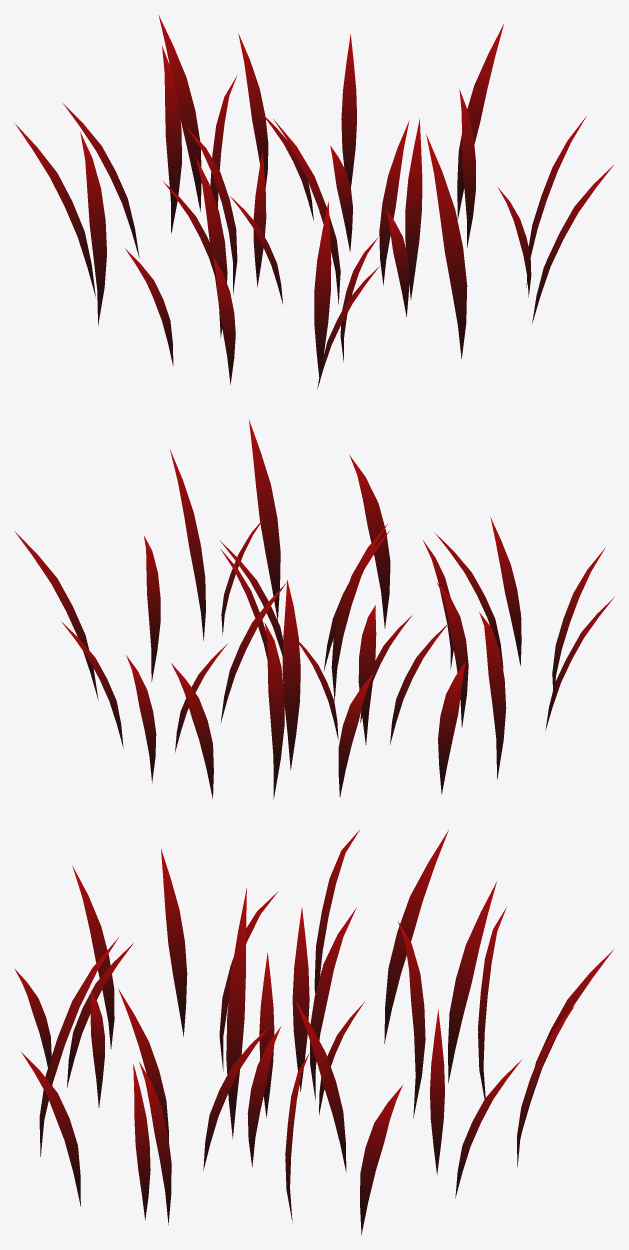
The model's file is Grass_Mesh.fbx.
3 renders of one model, top to bottom at view 1: azimuth 30°, elevation 25°; view 2: azimuth 150°, elevation 25°; view 3: azimuth 270°, elevation 25°, orthographic. The views are drawn at different scales.
Visible parts, largest first — view 1: Grass; view 2: Grass; view 3: Grass.
Part boxes in pixels (bbox=[...]): Grass: bbox=[14, 15, 613, 388]; Grass: bbox=[14, 420, 614, 799]; Grass: bbox=[14, 830, 613, 1235].
Bounding box in the file's own units: 3.33 × 1.31 × 3.18.
